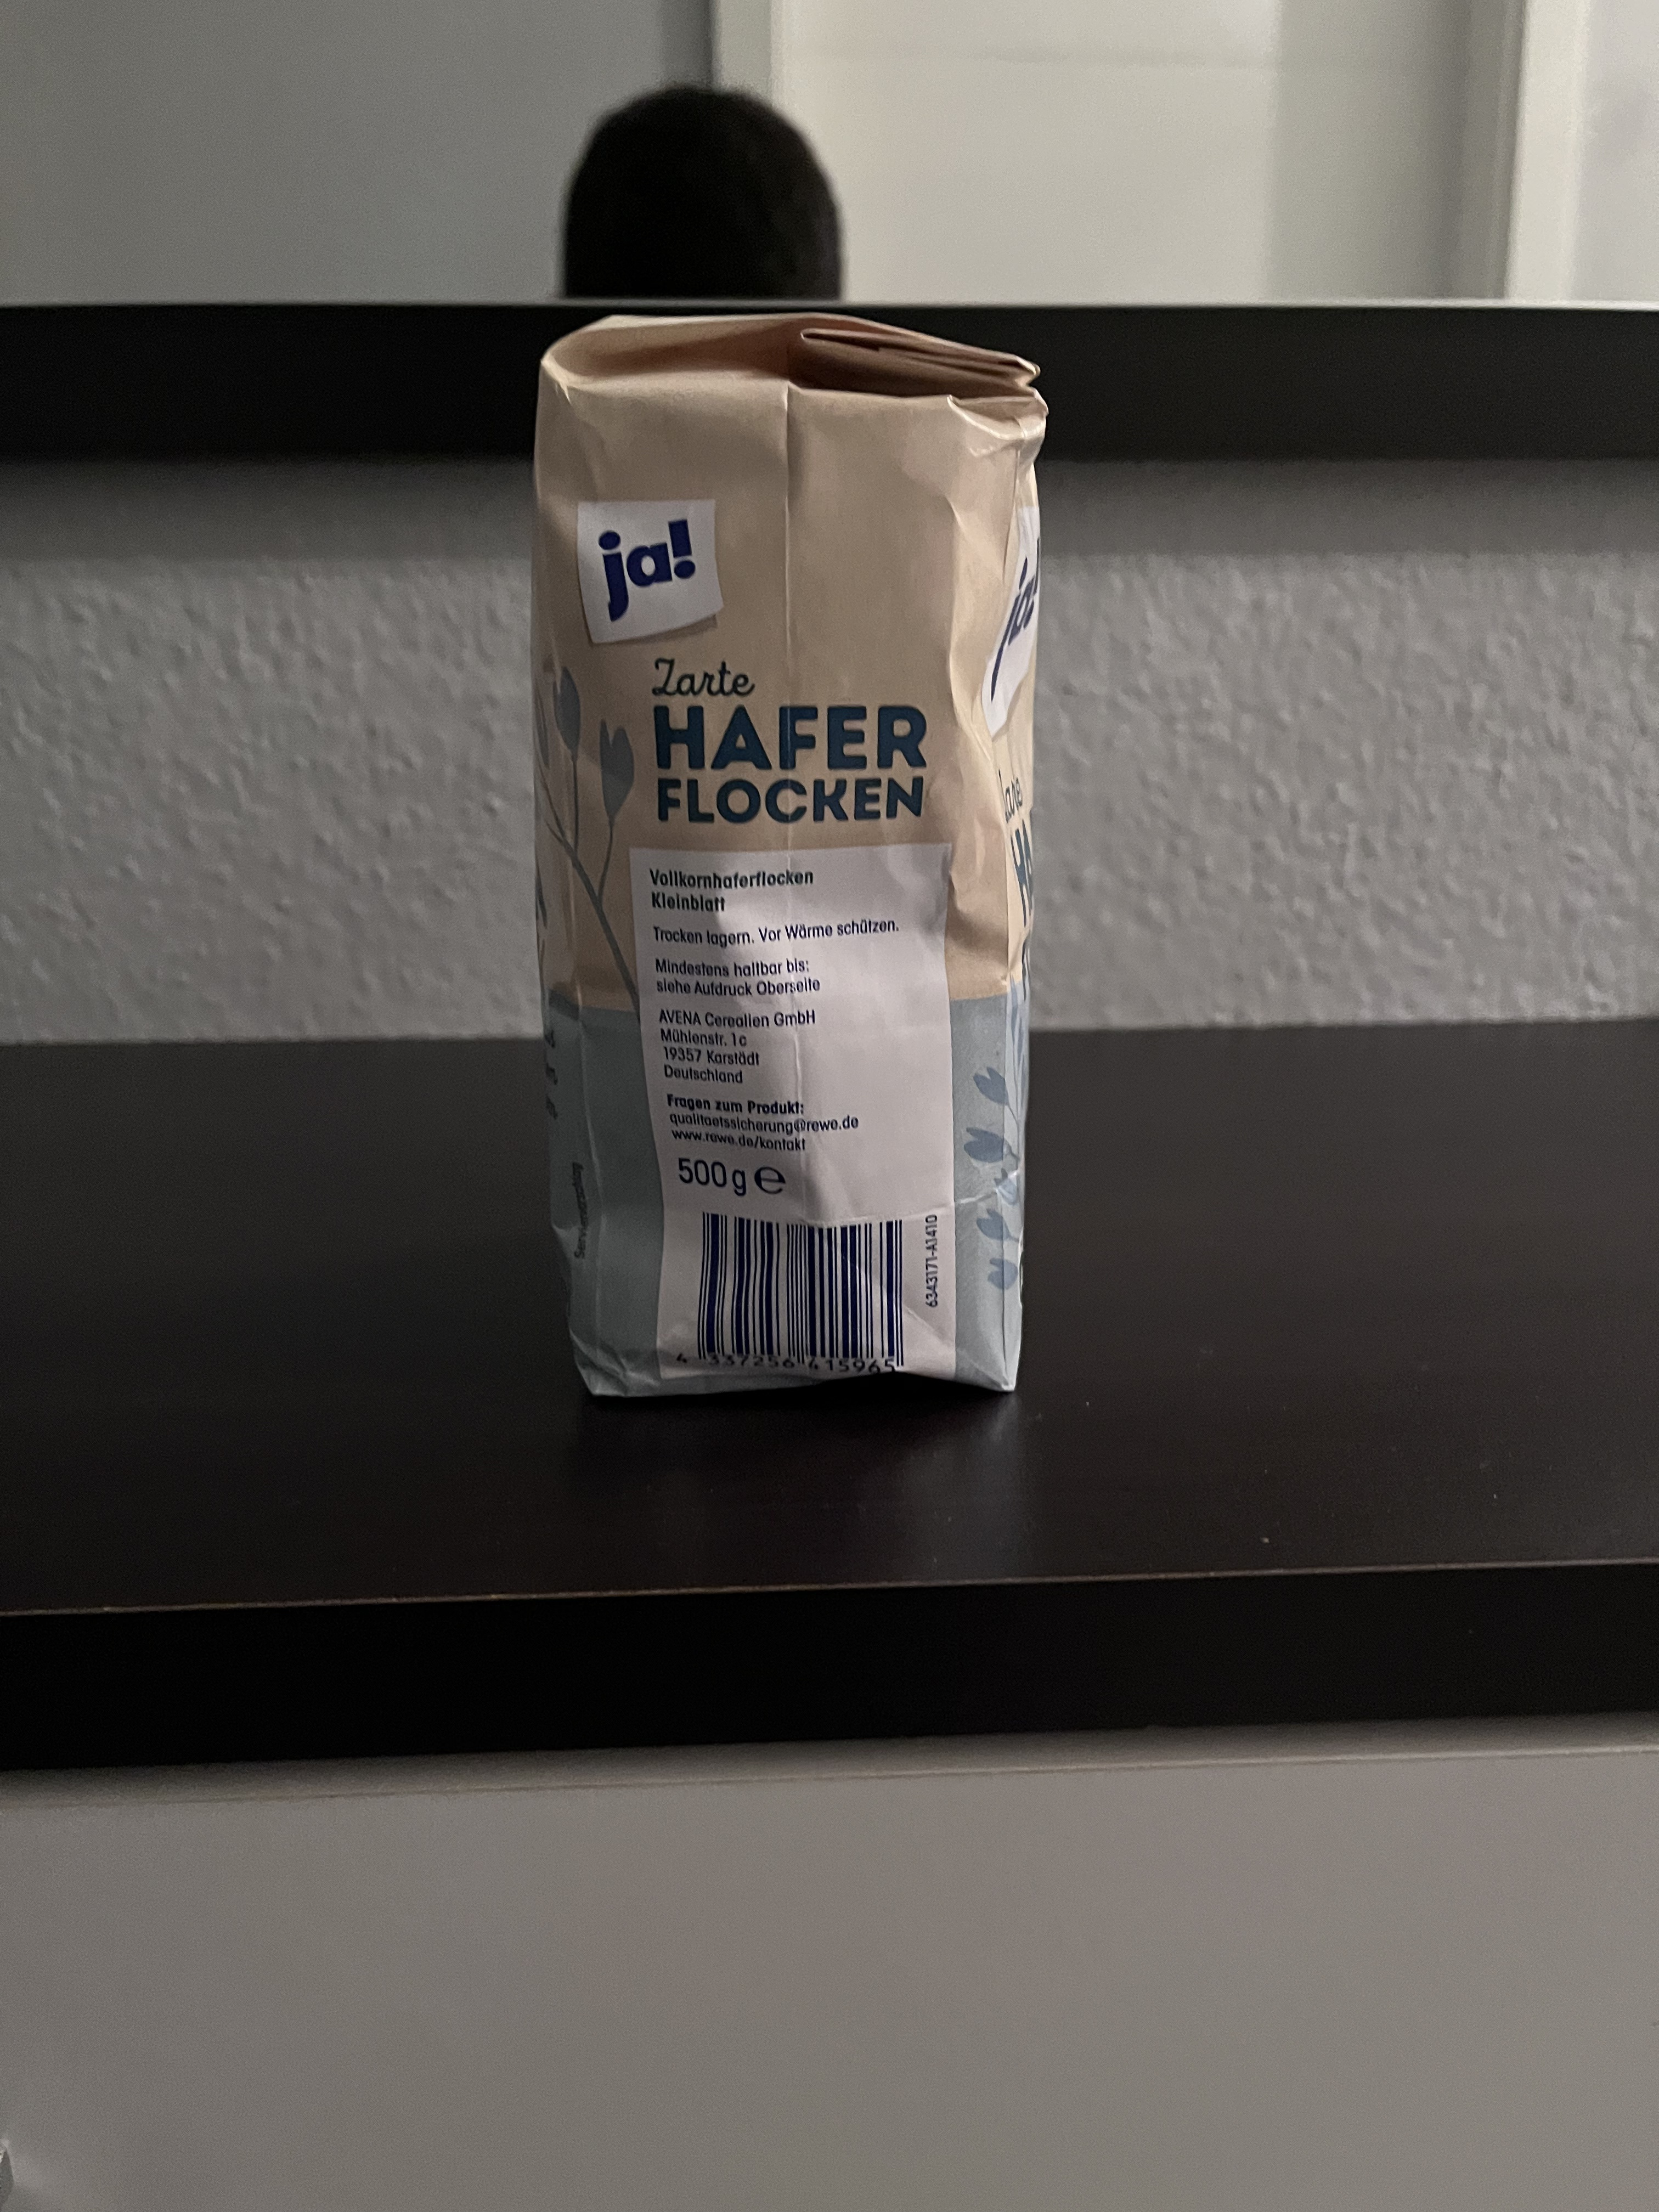haferflocken_ja: (509, 312, 1058, 1411)
